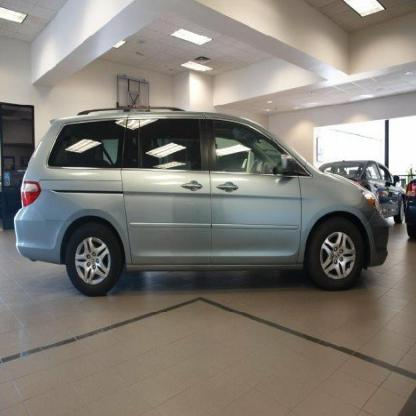Vehicle: (13, 103, 392, 301)
